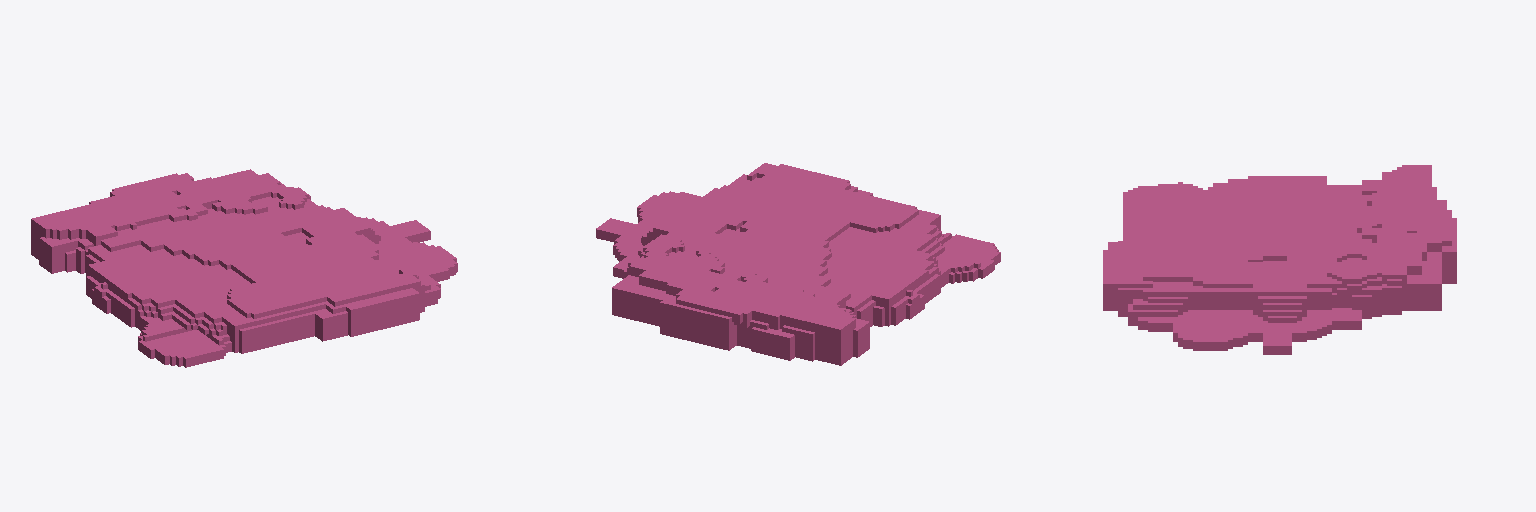
3 renders of one model, left to right at view 1: azimuth 30°, elevation 25°; view 2: azimuth 150°, elevation 25°; view 3: azimuth 270°, elevation 25°, orthographic.
Parts seen in each view (by area): view 1: object 1; view 2: object 1; view 3: object 1.
Part boxes in pixels (x1,y1,x2,y2): object 1: (31, 169, 457, 367); object 1: (596, 163, 1000, 365); object 1: (1103, 165, 1456, 354).
Size of the model in its own units: 7.7 by 0.8 by 7.1.
Materials: 1 (1 with a texture image).